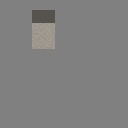supply_truck: (32, 10, 55, 49)
